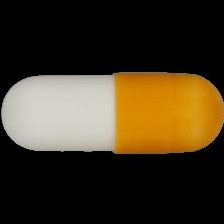35356-141: (0, 0, 224, 224)
